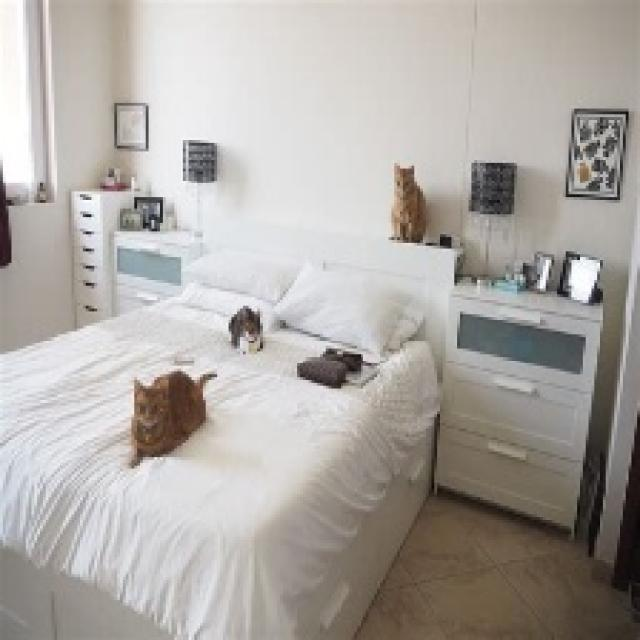Bed: (0, 226, 460, 637)
